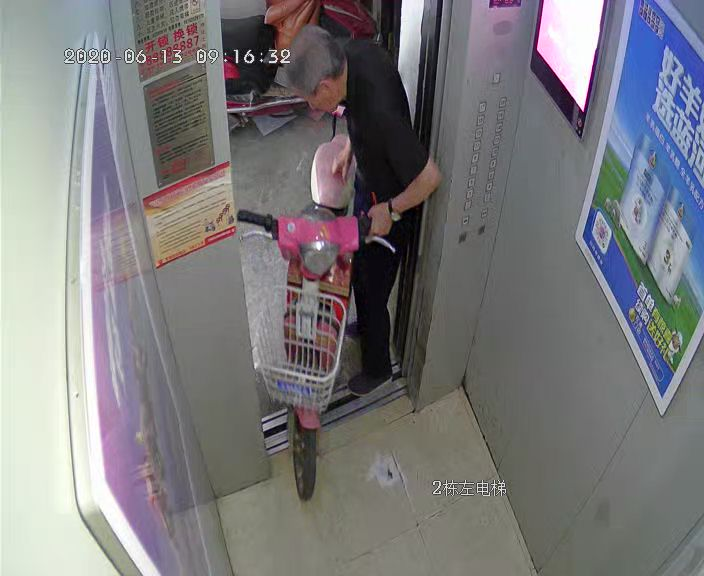Electric-bicycle: (234, 100, 396, 502)
